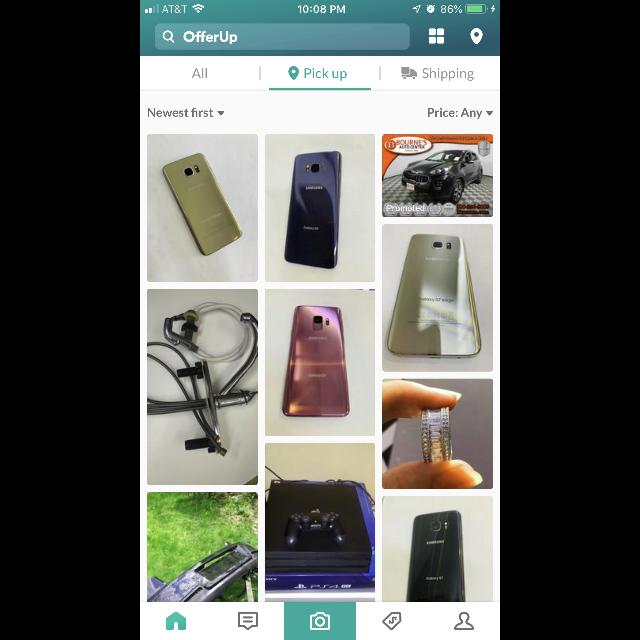icon: (284, 602, 356, 640), (454, 612, 474, 630), (382, 612, 402, 630), (238, 612, 258, 630), (166, 612, 186, 630), (428, 28, 444, 44), (471, 29, 483, 45), (288, 66, 300, 80), (163, 31, 175, 43), (218, 110, 225, 116), (486, 112, 494, 116)
image: (146, 289, 258, 485), (264, 443, 376, 601), (264, 134, 376, 282), (146, 134, 258, 282), (264, 289, 376, 436), (382, 225, 493, 372), (146, 492, 258, 602), (382, 378, 492, 489), (382, 496, 493, 602), (382, 134, 493, 218), (401, 67, 417, 79)
input: (154, 24, 410, 50)
text: (422, 68, 474, 82), (148, 108, 214, 118), (184, 32, 238, 44), (428, 108, 482, 120), (305, 68, 347, 82), (192, 68, 206, 78)
uppertaskbar: (140, 0, 500, 14)
